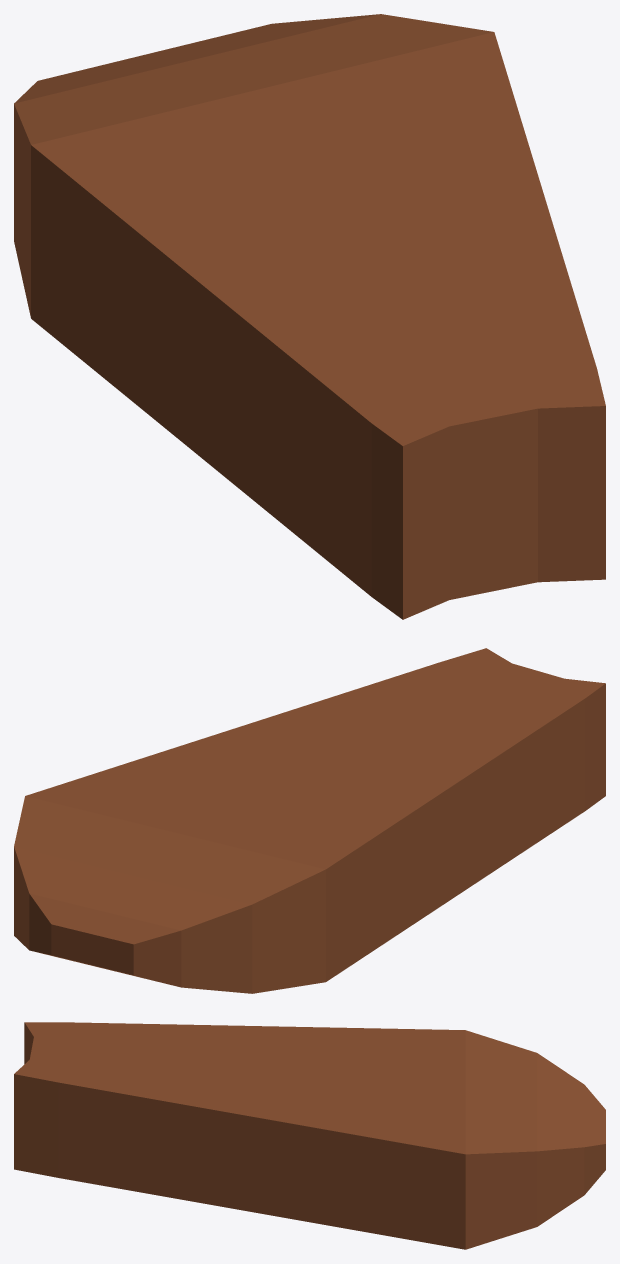
The model's file is upper_front_leg.glb.
The picture shows the model from 3 angles, top to bottom: view 1: azimuth 30°, elevation 25°; view 2: azimuth 150°, elevation 25°; view 3: azimuth 270°, elevation 25°; orthographic projection. The views are drawn at different scales.
Parts seen in each view (by area): view 1: Cube; view 2: Cube; view 3: Cube.
Boxes of the visible parts, <box> form: Cube: <box>14,14,605,619</box>; Cube: <box>14,648,605,993</box>; Cube: <box>14,1022,605,1249</box>.
Size of the model in its own units: 1.43 by 0.4799 by 2.7.
